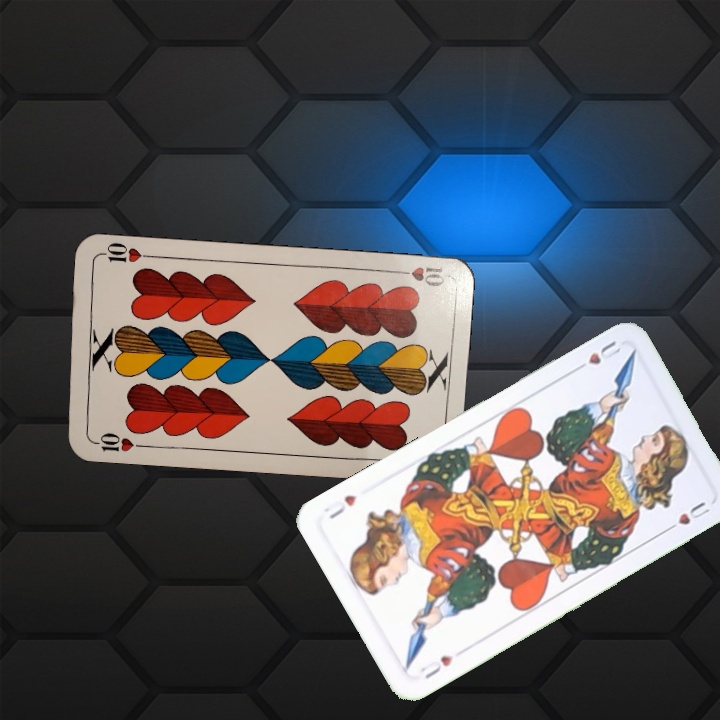H10: (389, 262, 449, 289), (87, 428, 147, 454)
HU: (570, 336, 624, 374), (416, 651, 456, 682)
